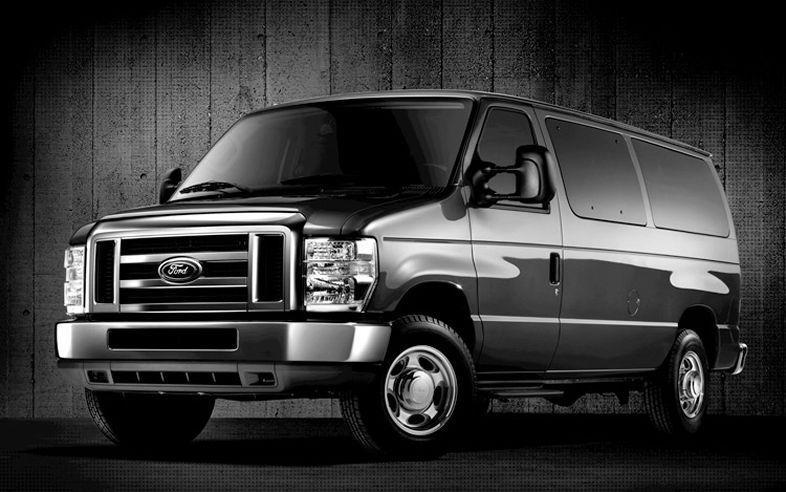car: (51, 89, 747, 455)
